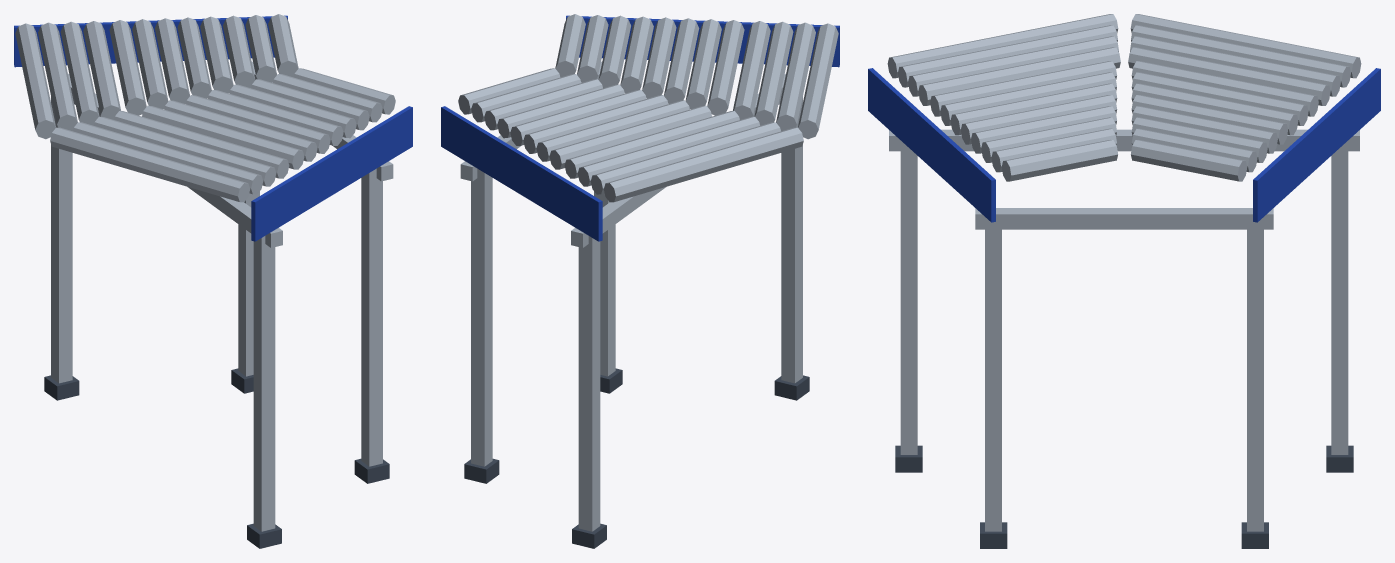
Rendered from SM_MPR_YMergeCAD.fbx.
The picture shows the model from 3 angles, left to right: view 1: azimuth 30°, elevation 25°; view 2: azimuth 150°, elevation 25°; view 3: azimuth 270°, elevation 25°; orthographic projection. The views are drawn at different scales.
Visible parts, largest first — view 1: SM_MPR_YMergeCAD; view 2: SM_MPR_YMergeCAD; view 3: SM_MPR_YMergeCAD.
Part boxes in pixels (x1,y1,x2,y2): SM_MPR_YMergeCAD: (14,14,412,548); SM_MPR_YMergeCAD: (441,14,839,548); SM_MPR_YMergeCAD: (868,14,1380,548).
Bounding box in the file's own units: 89.8 × 122 × 103.
